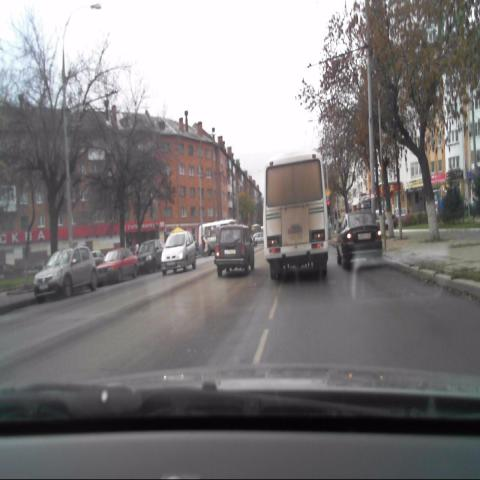2_1: (324, 185, 332, 199)
